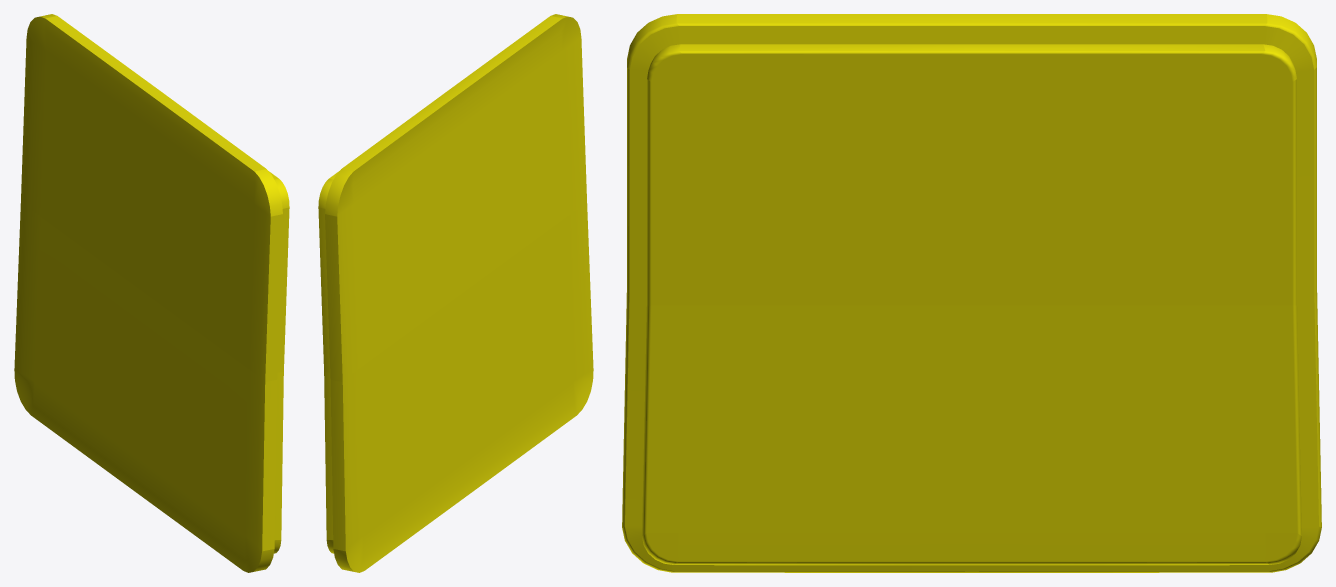
The model's file is Wide_Coin_Metal.fbx.
The picture shows the model from 3 angles, left to right: view 1: azimuth 30°, elevation 25°; view 2: azimuth 150°, elevation 25°; view 3: azimuth 270°, elevation 25°; orthographic projection. The views are drawn at different scales.
Parts seen in each view (by area): view 1: Wide_Coin_Metal; view 2: Wide_Coin_Metal; view 3: Wide_Coin_Metal.
Boxes of the visible parts, x1,y1,x2,y2 form: Wide_Coin_Metal: (14,14,289,572); Wide_Coin_Metal: (318,14,593,572); Wide_Coin_Metal: (622,14,1321,572).
Size of the model in its own units: 2.66 by 26.44 by 29.99.
